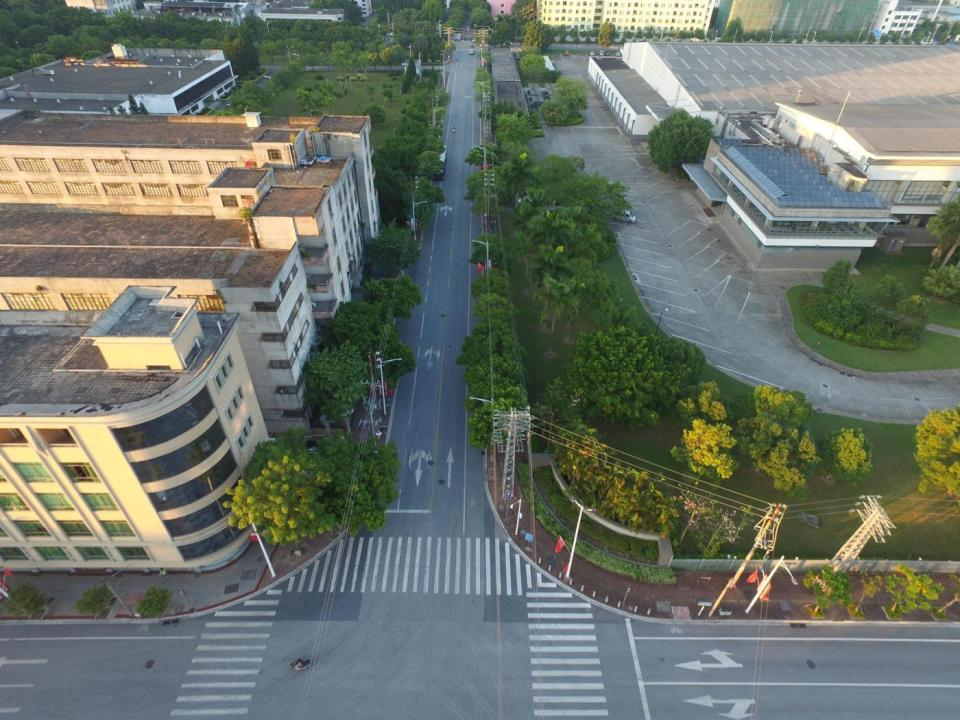bus: (432, 144, 448, 180)
car: (589, 51, 595, 56), (469, 49, 475, 54), (565, 50, 569, 56), (605, 52, 610, 56), (615, 51, 619, 56)
van: (609, 207, 636, 224), (599, 50, 604, 56)
